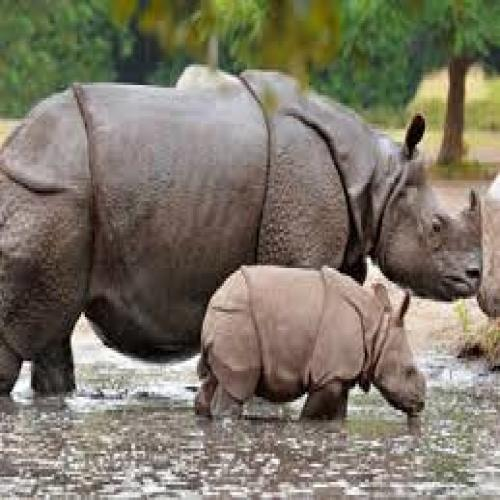rhino-endangered: (1, 66, 483, 394), (206, 264, 430, 420)
